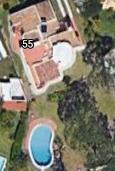pool: (28, 123, 55, 169)
